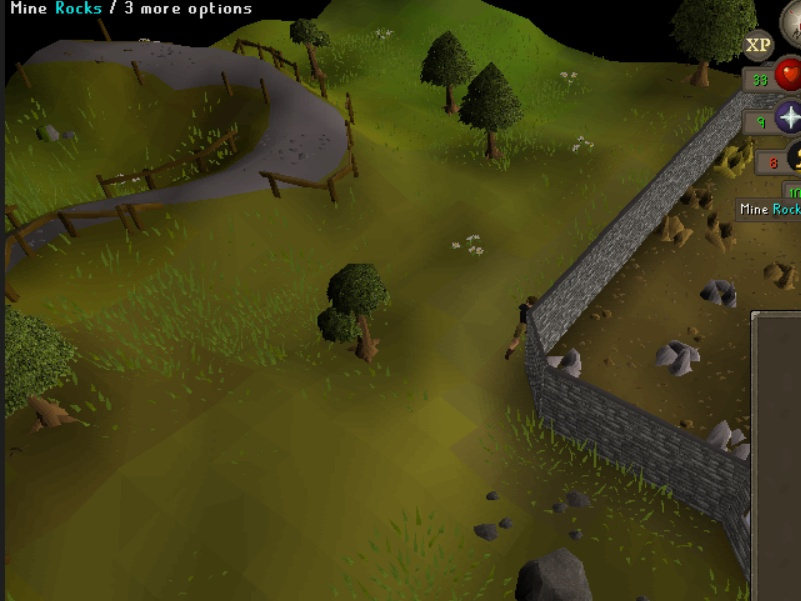clay: (653, 212, 696, 254), (700, 211, 743, 253), (758, 252, 801, 294), (679, 178, 722, 212)
gold: (709, 155, 745, 180), (724, 135, 760, 160)
silver: (651, 336, 705, 379), (545, 341, 589, 383), (698, 270, 742, 312), (706, 419, 752, 457)
